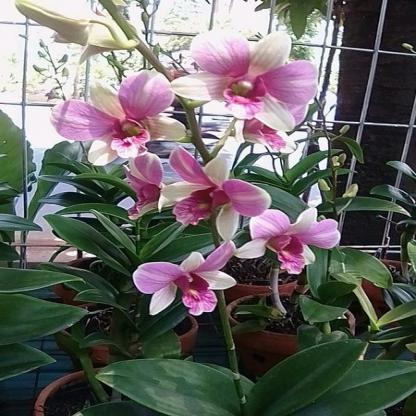ANGGREK: (40, 39, 361, 361)
